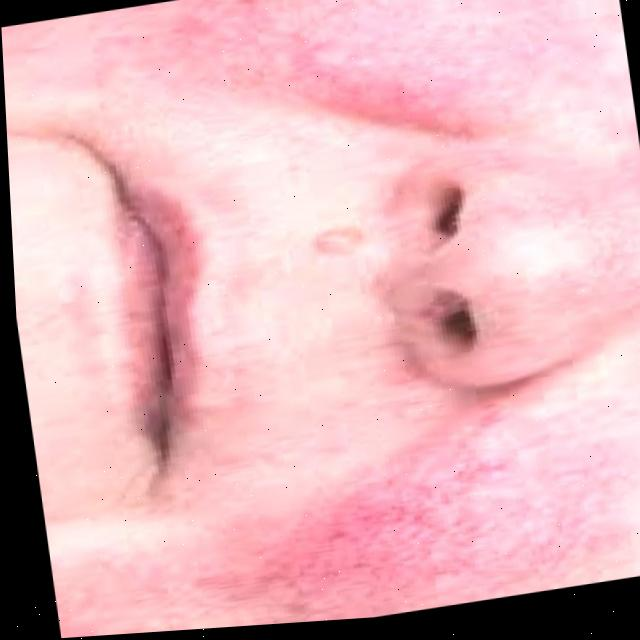Rosacea: (280, 399, 624, 623), (172, 0, 552, 170)
